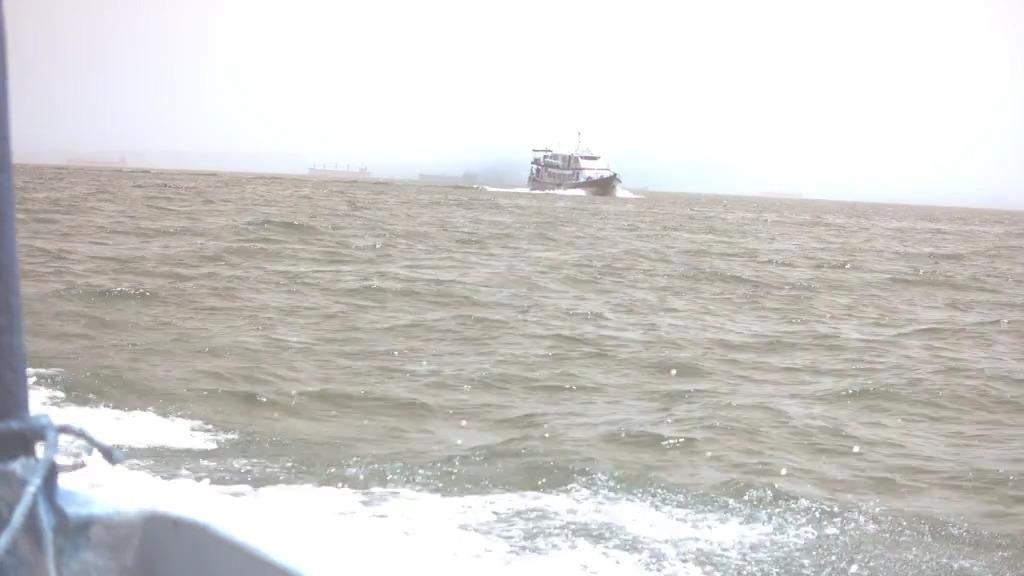PassengerShip: (526, 129, 626, 195)
